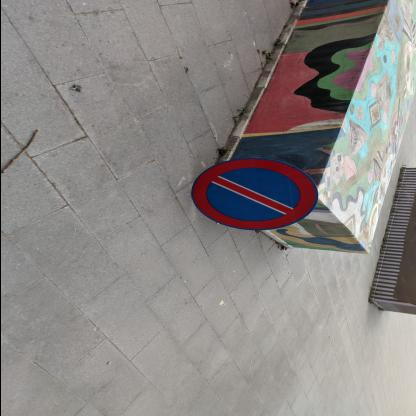No Waiting: (191, 158, 318, 232)
